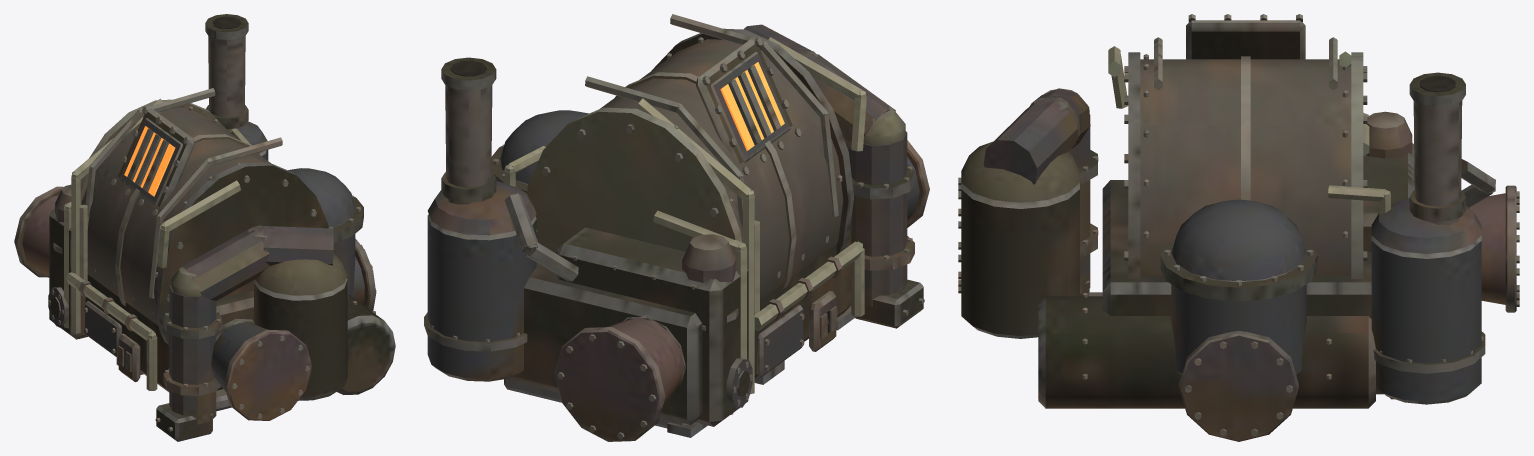
Rendered from boiler-east.glb.
3 renders of one model, left to right at view 1: azimuth 30°, elevation 25°; view 2: azimuth 150°, elevation 25°; view 3: azimuth 270°, elevation 25°, orthographic. The views are drawn at different scales.
Parts seen in each view (by area): view 1: body; view 2: body; view 3: body.
Part boxes in pixels (<box>): body: <box>14,14,395,441</box>; body: <box>424,14,929,441</box>; body: <box>958,14,1519,441</box>.
Bounding box in the file's own units: 2.09 × 1.96 × 2.99.
2 materials, 2 textured.
